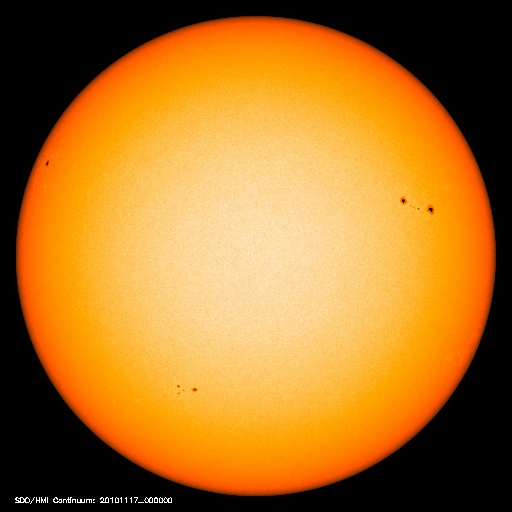sunspot: (392, 191, 443, 222), (166, 374, 207, 404), (36, 151, 59, 174)
